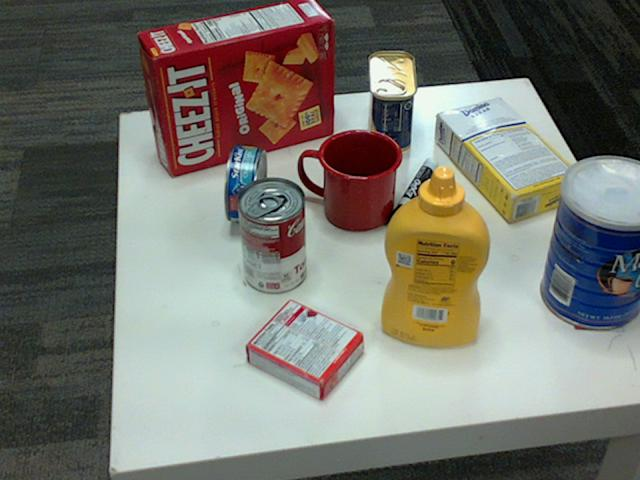cracker_box: (137, 0, 332, 174)
gelatin_box: (243, 299, 360, 402)
large_marker: (388, 161, 438, 227)
master_chef_can: (541, 156, 639, 330)
mug: (298, 127, 402, 230)
mustard_bottle: (380, 166, 490, 346)
potted_meat_can: (366, 52, 415, 152)
sugar_box: (435, 98, 582, 222)
tomato_soup_can: (237, 177, 306, 294)
tuna_fish_can: (223, 144, 266, 222)
